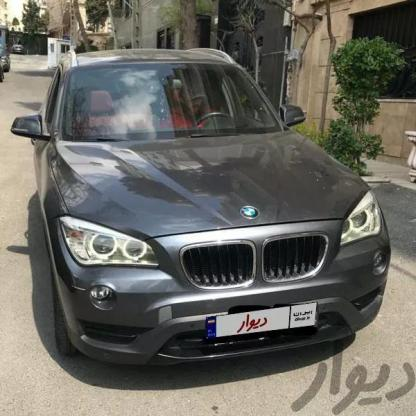Car: (27, 46, 399, 362)
